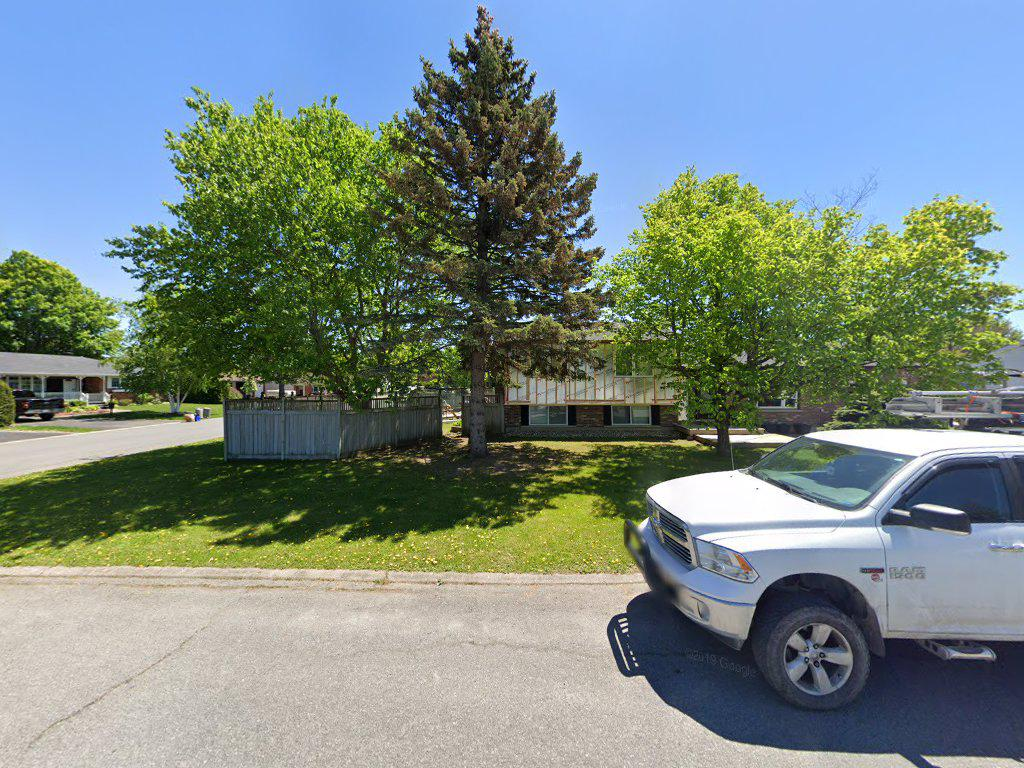trunk: (465, 342, 492, 461), (713, 411, 736, 457)
